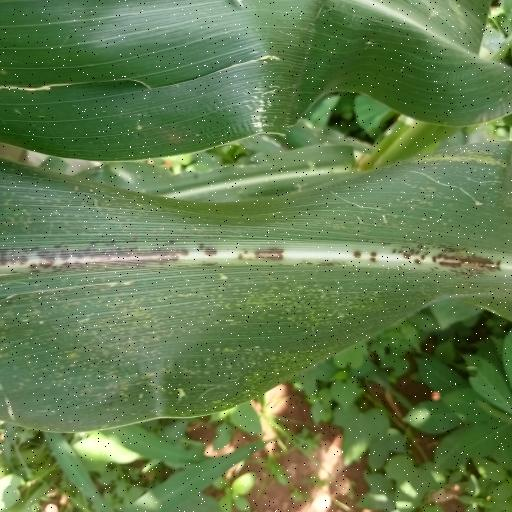Corn_Brown_Spots: (4, 150, 512, 423)
